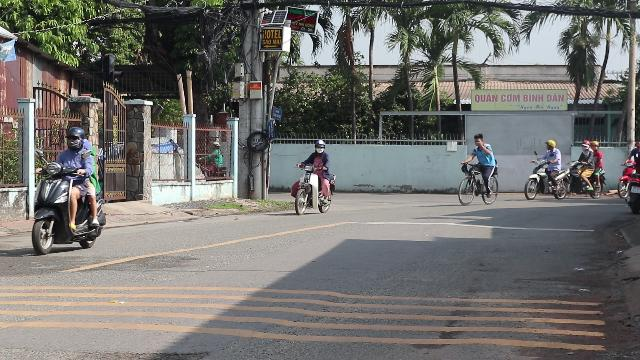helmet: (64, 126, 84, 148)
motorcyclist: (28, 125, 108, 255)
